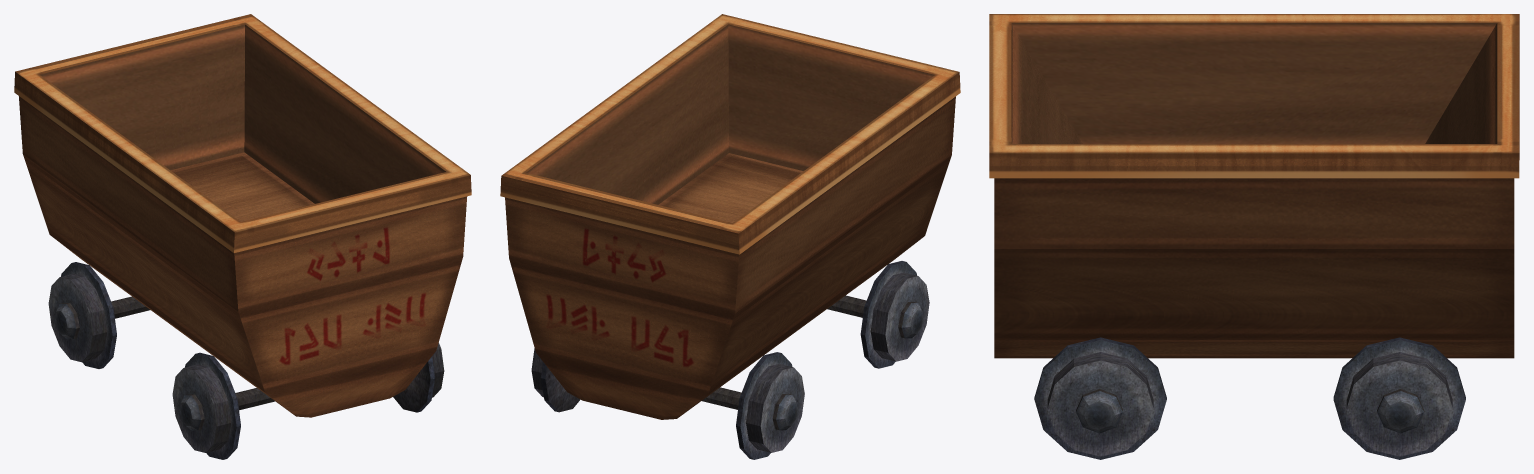
Rendered from MineCartForwardAnim.FBX.
3 views of the same model, side by side, from view 1: azimuth 30°, elevation 25°; view 2: azimuth 150°, elevation 25°; view 3: azimuth 270°, elevation 25° (orthographic). The views are drawn at different scales.
Visible parts, largest first — view 1: MineCart; view 2: MineCart; view 3: MineCart.
Part boxes in pixels (box(x1,y1,x2,y2)): MineCart: box(14, 14, 471, 459); MineCart: box(500, 14, 960, 459); MineCart: box(989, 14, 1519, 459).
Bounding box in the file's own units: 26.91 × 41.18 × 27.18.
